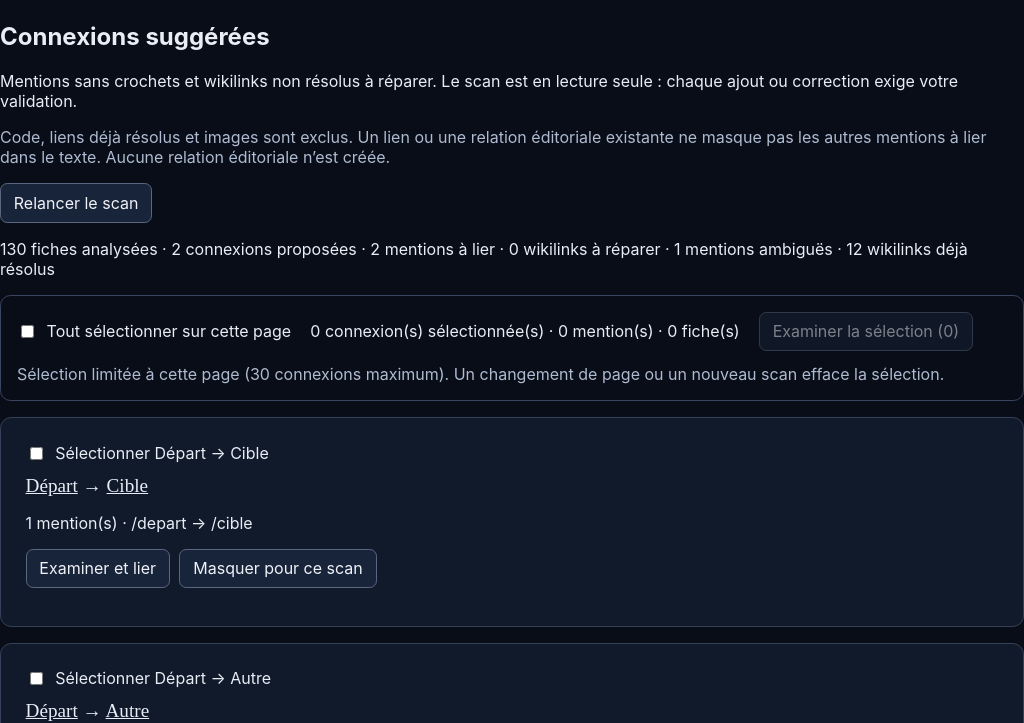
Test: scan des connexions › keeps only checked items and invalidates confirmation whenever selection changes or an item is hidden
Check: the text "130 fiches analysées" is shown, box [0,239,1023,279]
Click the checkbox labelled "Tout sélectionner sur cette page".
click(28, 332)  # box [21,325,34,338]
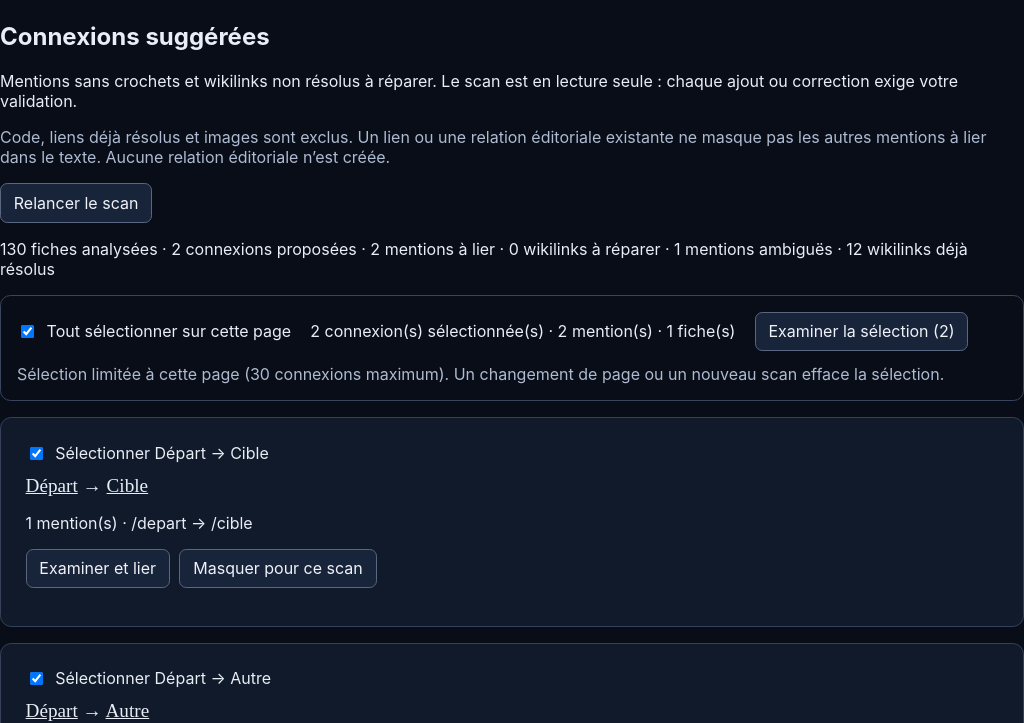
Click the button "Examiner la sélection (2)".
click(861, 331)  # box [755,312,968,351]
(page scrolled)
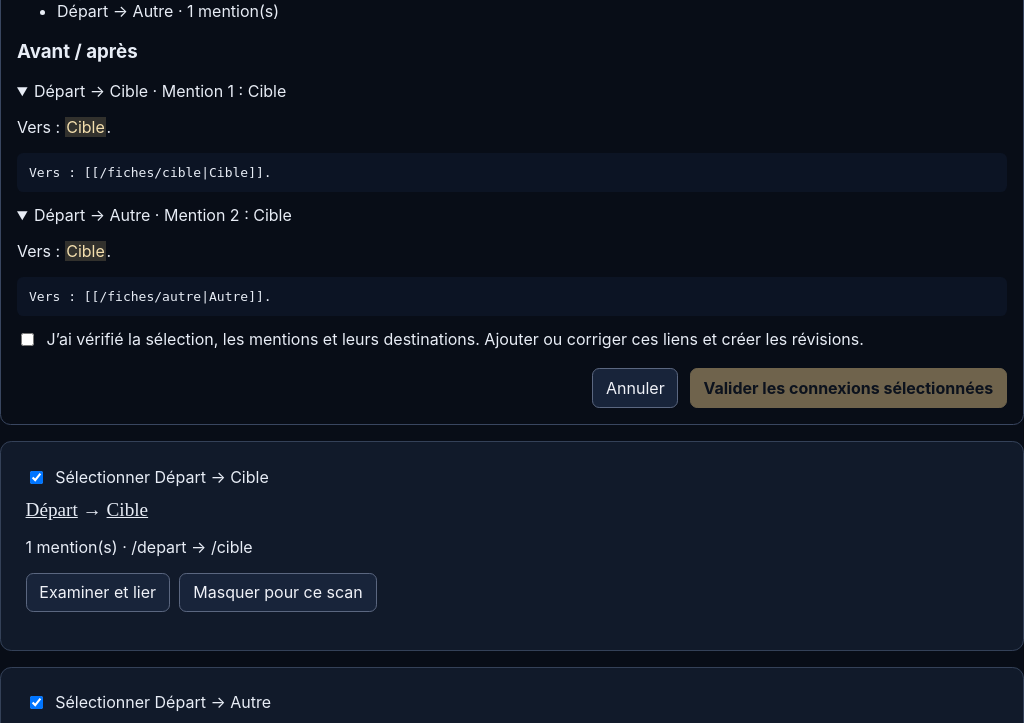
Click the checkbox labelled "J’ai vérifié".
click(28, 340)  # box [21,333,34,346]
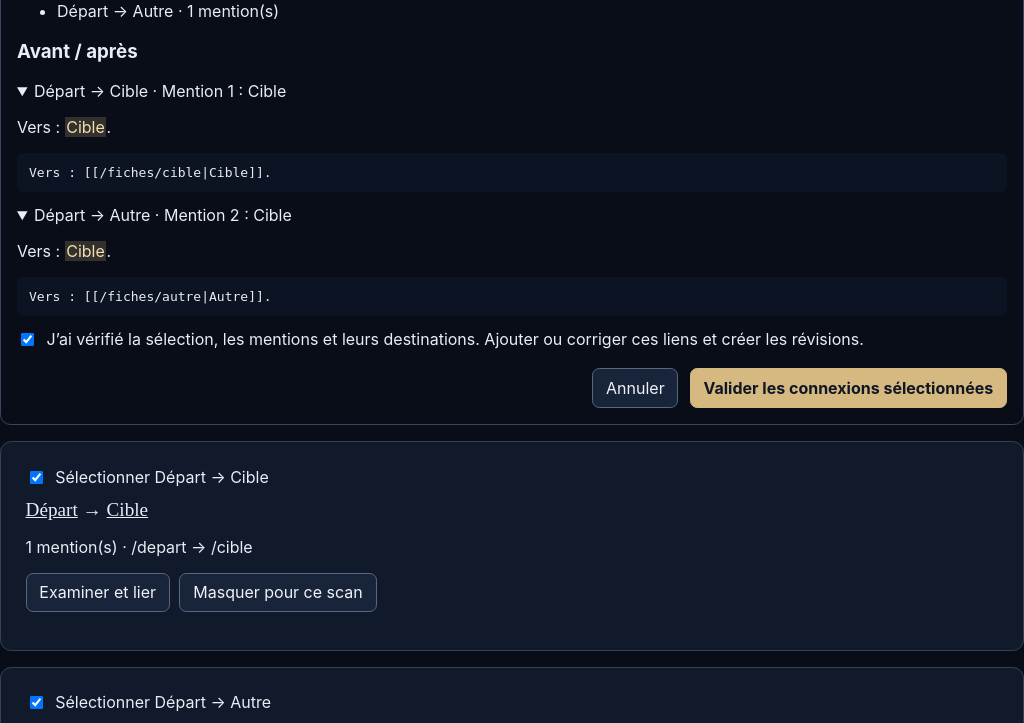
Click the checkbox labelled "Sélectionner Départ → Autre".
click(36, 703)  # box [30,696,43,709]
(page scrolled)
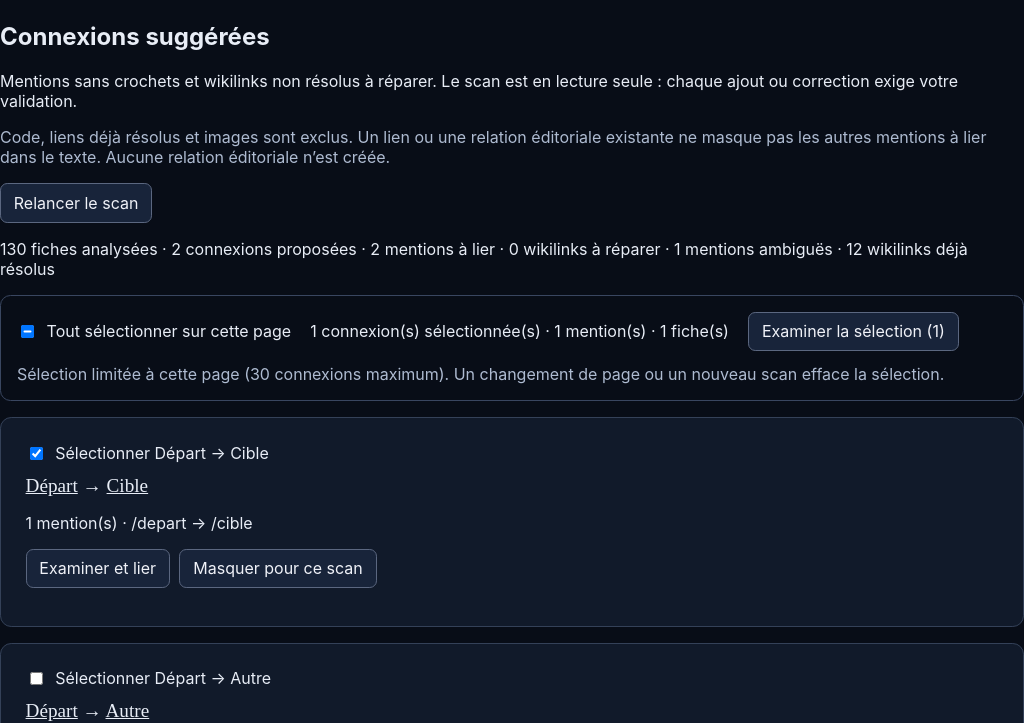
Click the button "Examiner la sélection (1)".
click(853, 331)  # box [748,312,959,351]
(page scrolled)
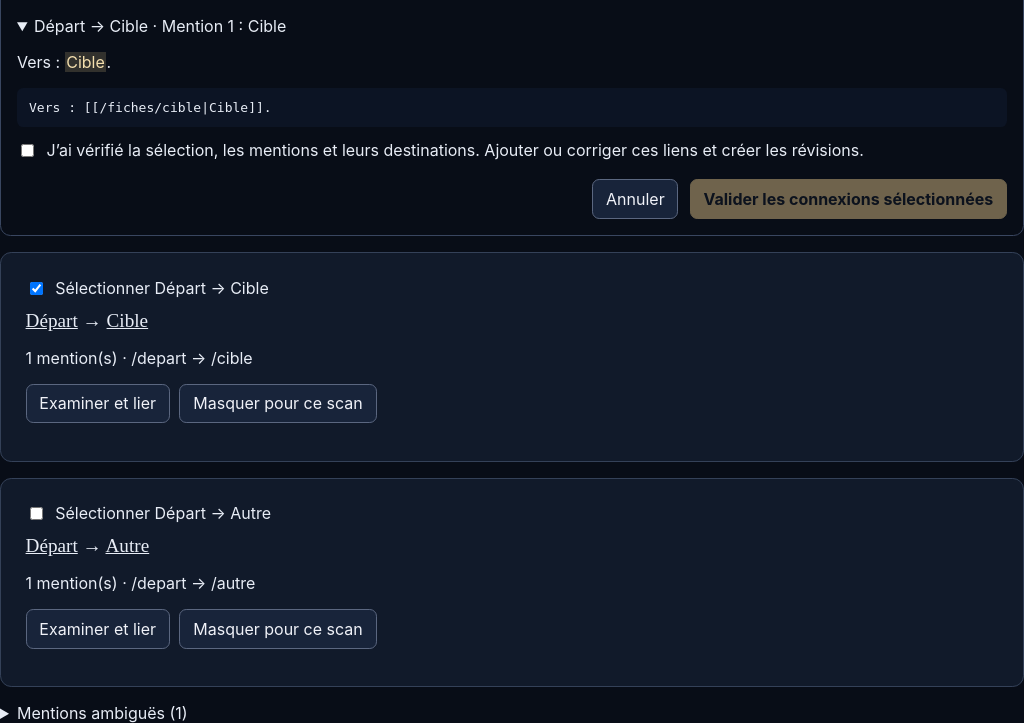
Check: the checkbox labelled "J’ai vérifié" is not checked, box [21,144,34,157]
Click the 1st button "Masquer pour ce scan".
click(278, 403)  # box [180,384,377,423]
(page scrolled)
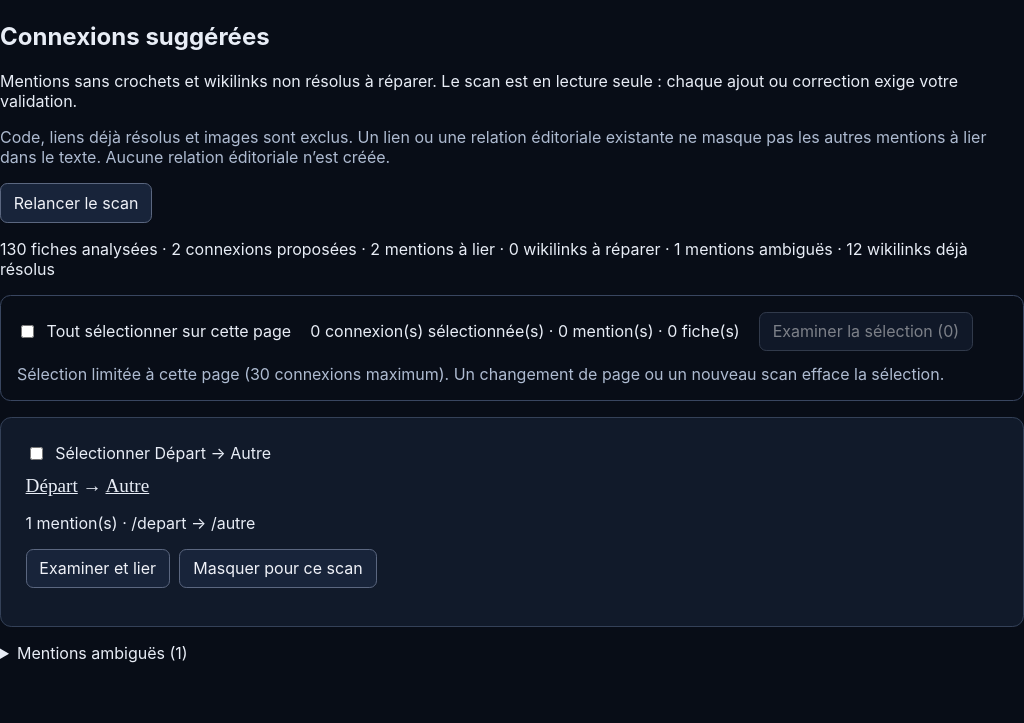
Check: the button "Examiner la sélection (0)" is disabled, box [759,312,973,351]
